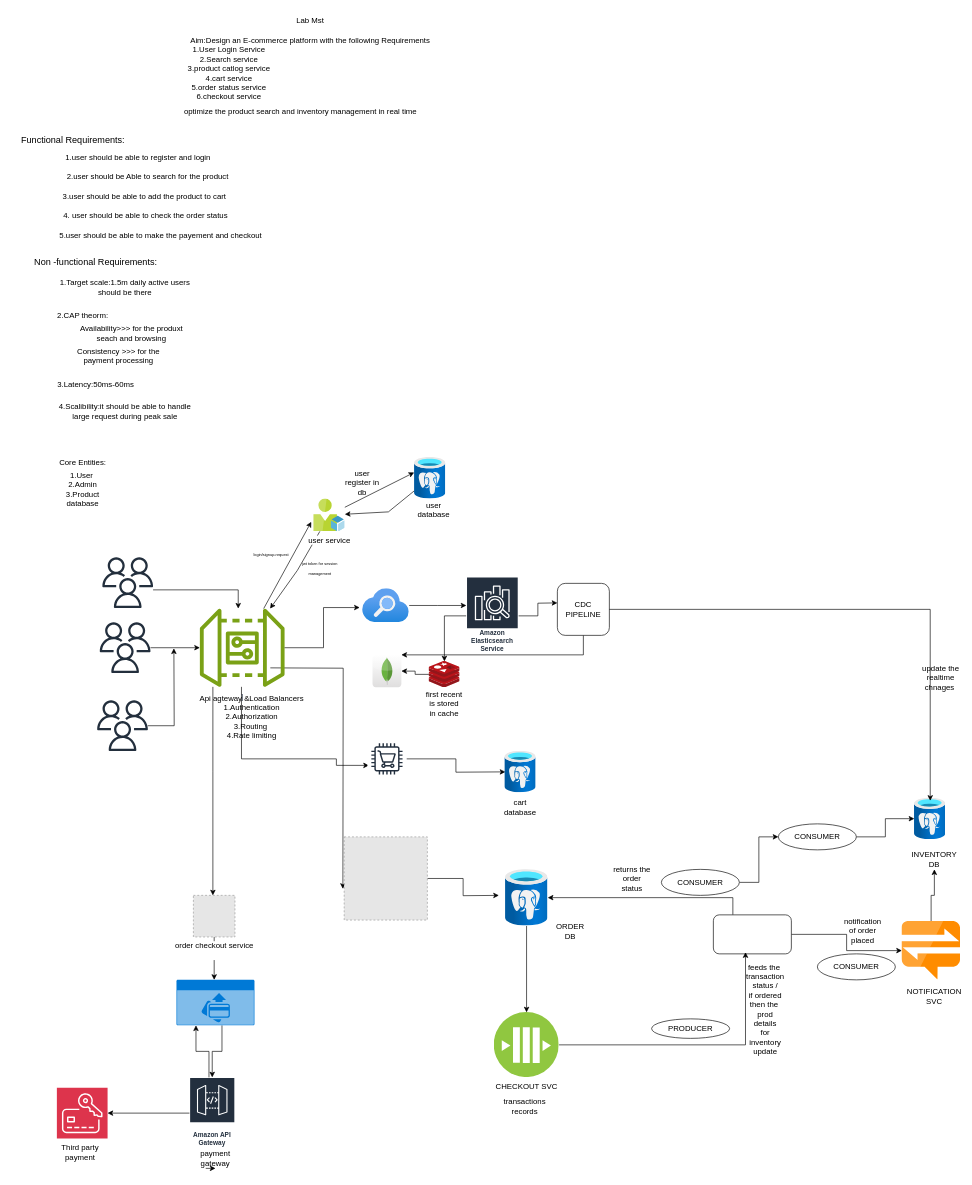
This 972x1185 diagram has some shape labels left out. Grey dashed boxes stand in for pictures. Here are the shapes that lost their labels. From the top down, the box of each, then its label:
(362, 588, 409, 622): search service
(372, 654, 401, 687): product database
(367, 739, 406, 778): cart service
(713, 914, 791, 954): KAFKA
(176, 980, 254, 1025): Payment
